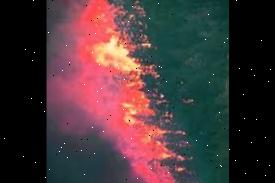fire: (64, 0, 203, 183)
